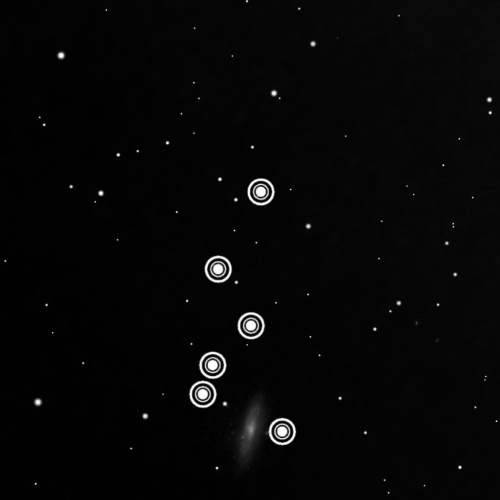cassiopeia: (184, 174, 299, 451)
